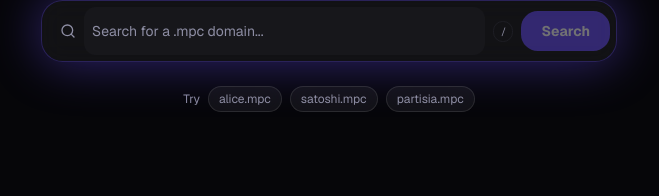
DomainSearch › Recent searches › offers the last searched name once the box is empty again
In the field with placeholder "Search for a .mpc domain...": (285, 31) [84,7,486,55], type "alice"
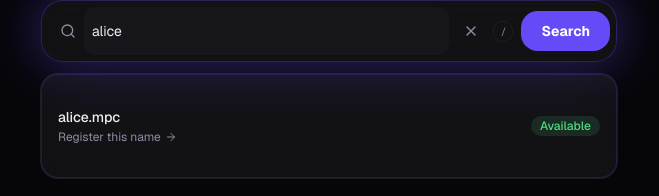
Clear the field with placeholder "Search for a .mpc domain...": (267, 31) [84,7,450,55]
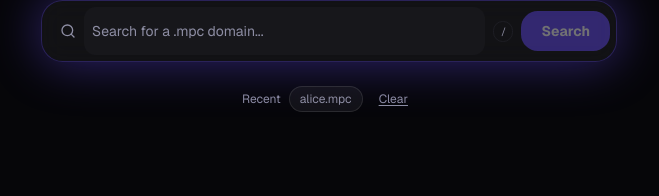
Check: the element with test id "recent-searches" shows "alice.mpc", box [289,86,363,112]
